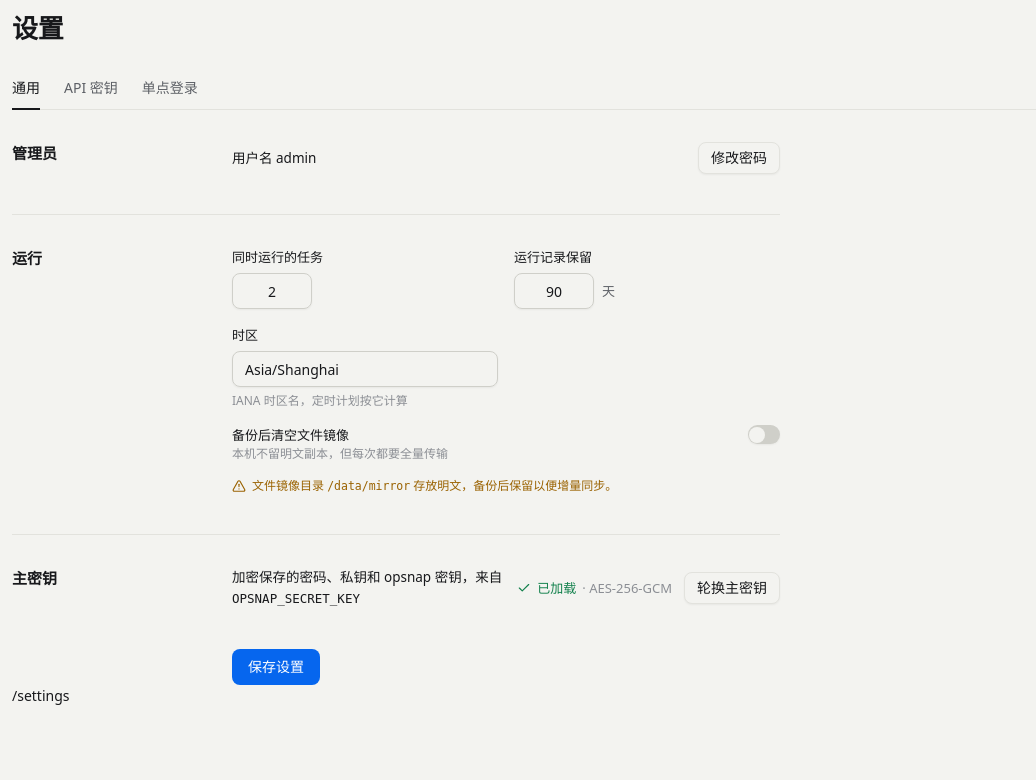
Test: 设置 · 通用 › 超出范围时就地提示，不提交
The image size is (1036, 780).
Replace the text in the field labelled "同时运行的任务" with "0" at {"x": 272, "y": 291}, box [232,273,312,309]
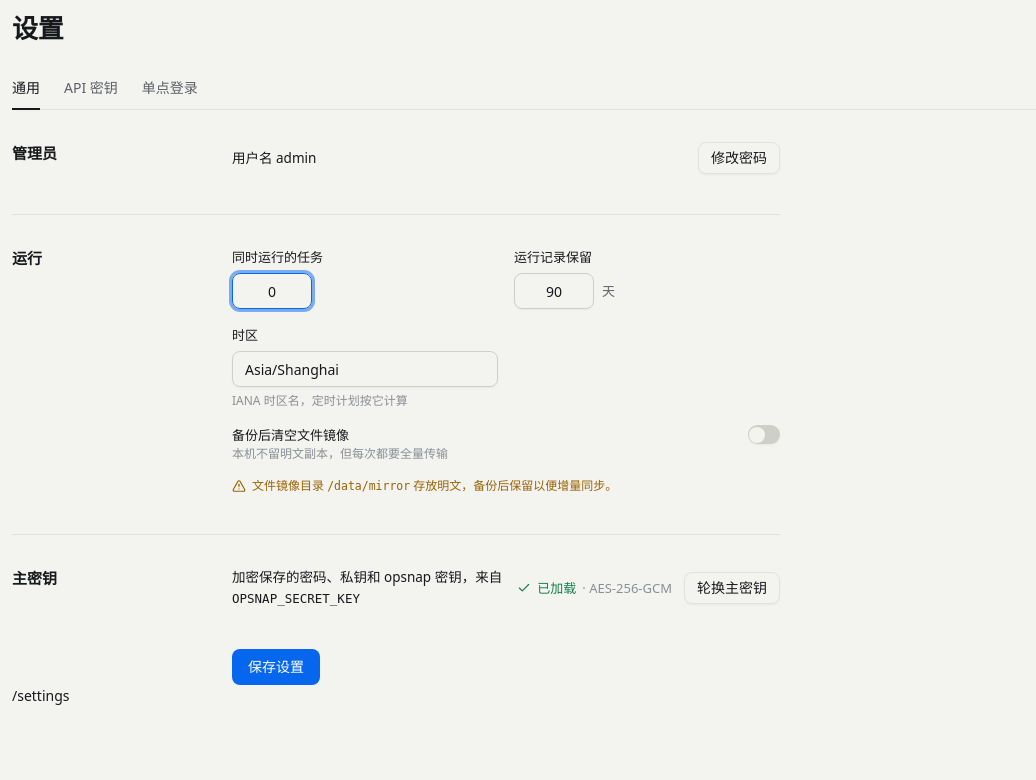
Clear the field named "运行记录保留天数" at {"x": 554, "y": 291}, box [514,273,594,309]
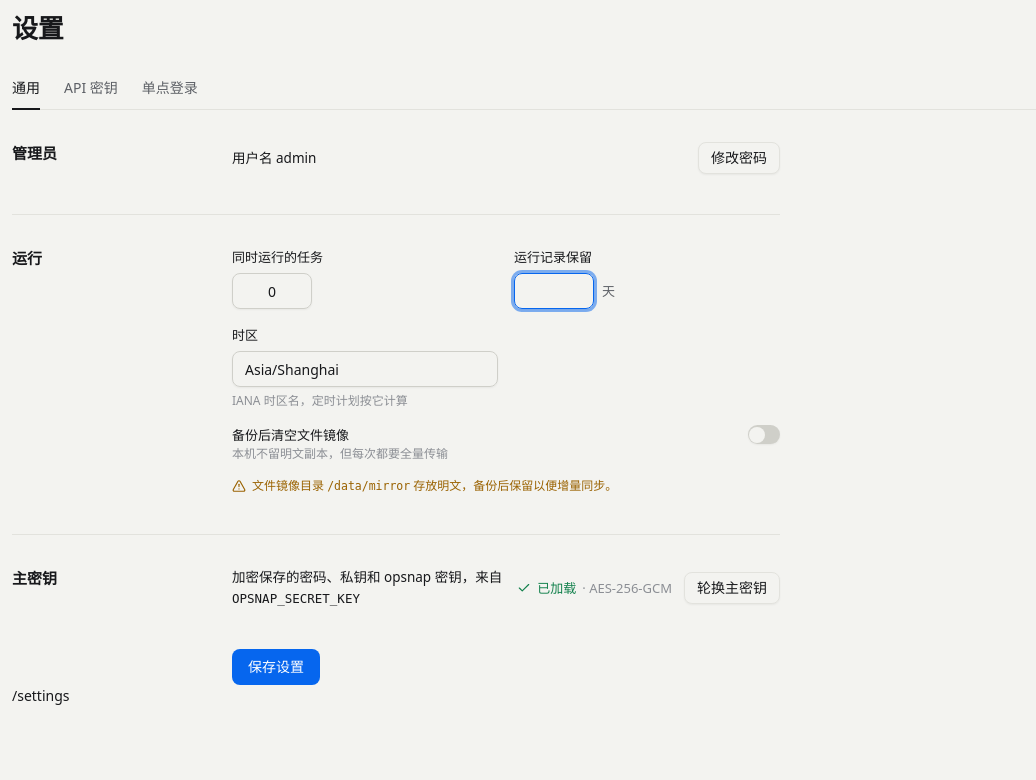
Click the button "保存设置" at {"x": 276, "y": 667}, box [232,649,320,685]
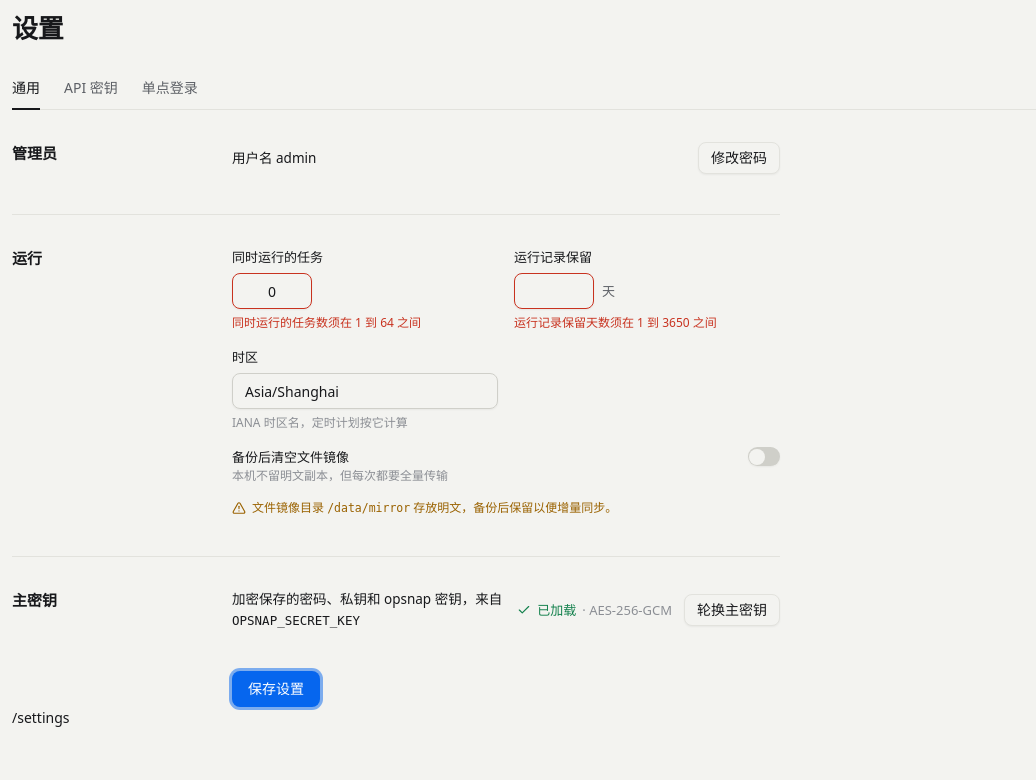
Result: the text "同时运行的任务数须在 1 到 64 之间" is shown at [232,314,421,331]
Result: the text "运行记录保留天数须在 1 到 3650 之间" is shown at [514,314,717,331]
